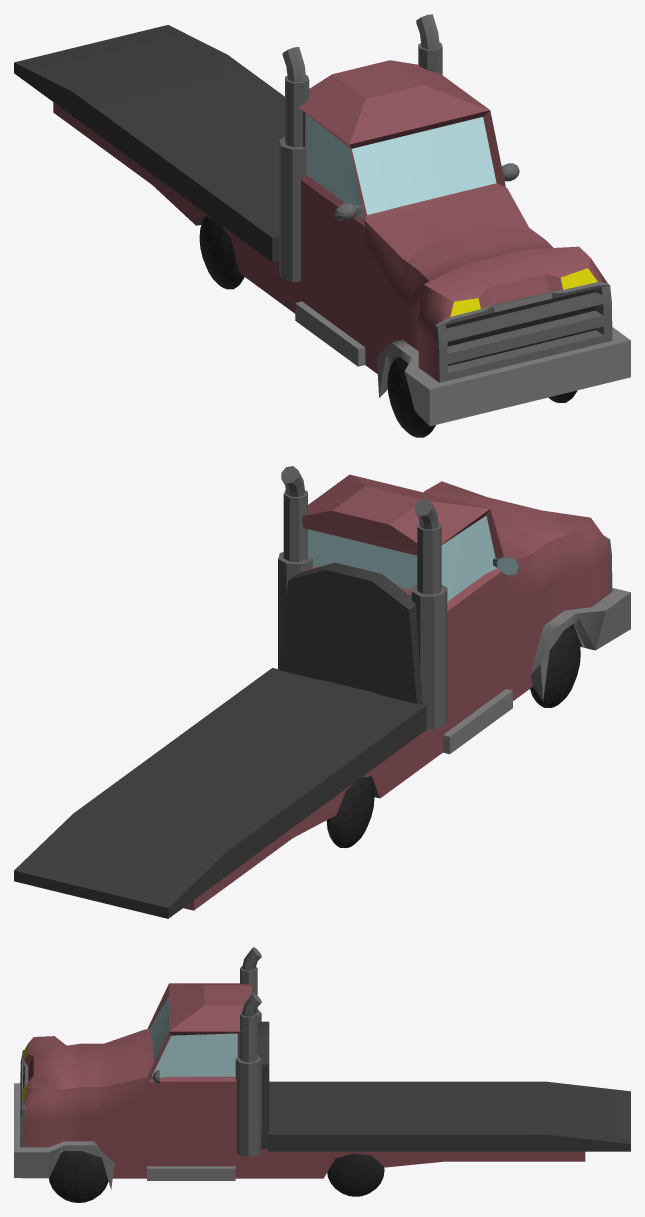
The model's file is Truck2.fbx.
3 renders of one model, top to bottom at view 1: azimuth 30°, elevation 25°; view 2: azimuth 150°, elevation 25°; view 3: azimuth 270°, elevation 25°, orthographic. The views are drawn at different scales.
Visible parts, largest first — view 1: pCube1, pCube2, pCylinder3, pSphere4, pSphere3, pCylinder2, pSphere2; view 2: pCube1, pCube2, pCylinder3, pCylinder2, pSphere3, pSphere4; view 3: pCube1, pCube2, pCylinder2, pSphere3, pSphere4, pCylinder3.
Part boxes in pixels (x1,y1,x2,y2): pCube1: [53, 60, 630, 426]; pCube2: [14, 25, 284, 262]; pCylinder3: [279, 47, 309, 281]; pSphere4: [199, 216, 244, 289]; pSphere3: [387, 357, 577, 437]; pCylinder2: [416, 14, 442, 74]; pSphere2: [334, 163, 519, 220]; pCube1: [183, 474, 630, 910]; pCube2: [14, 668, 426, 918]; pCylinder3: [411, 498, 447, 729]; pCylinder2: [278, 466, 312, 669]; pSphere3: [530, 626, 580, 707]; pSphere4: [326, 776, 374, 847]; pCube1: [14, 983, 585, 1189]; pCube2: [268, 1081, 630, 1151]; pCylinder2: [235, 993, 261, 1157]; pSphere3: [49, 1151, 108, 1202]; pSphere4: [327, 1153, 384, 1196]; pCylinder3: [240, 947, 261, 1021].
Size of the model in its own units: 8.66 by 12.17 by 32.74.
